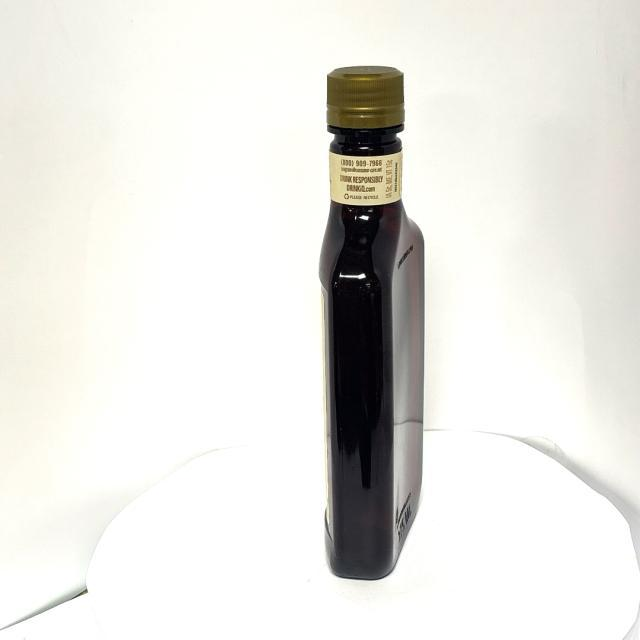SEAGRAMS 7 375ML: (318, 66, 427, 585)
